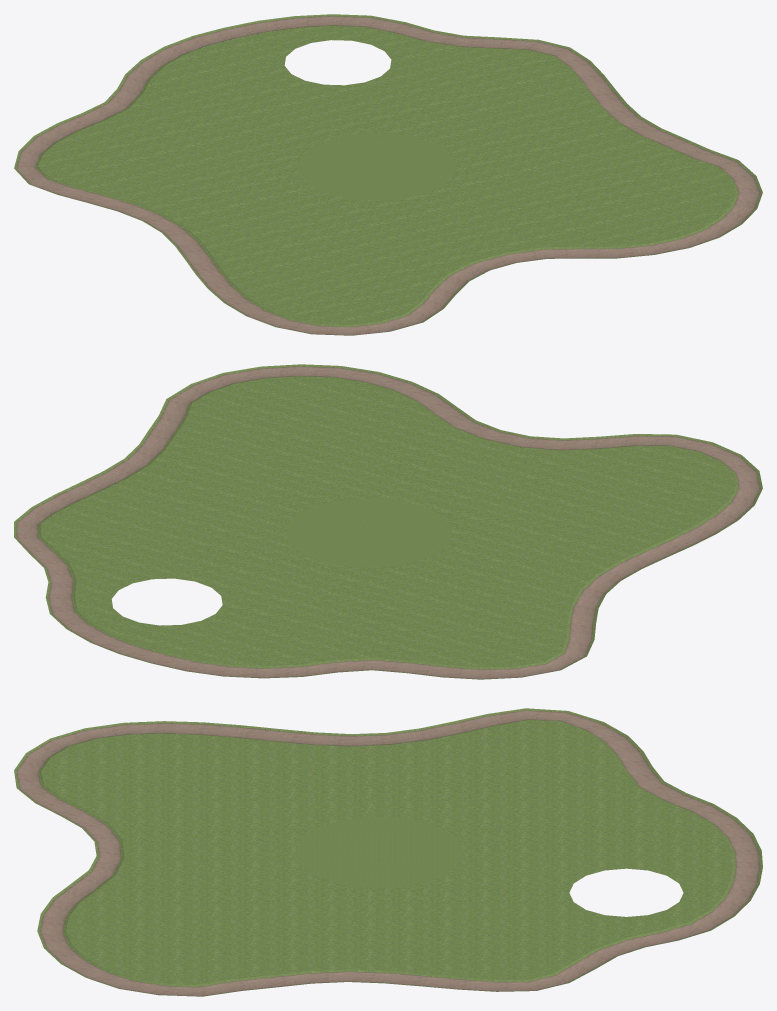
File: gGROUND.obj
3 views of the same model, one above another, from view 1: azimuth 30°, elevation 25°; view 2: azimuth 150°, elevation 25°; view 3: azimuth 270°, elevation 25° (orthographic). The views are drawn at different scales.
Visible parts, largest first — view 1: polySurface3_0, nurbsToPoly3_0, polySurface150_0; view 2: polySurface3_0, nurbsToPoly3_0, polySurface150_0; view 3: polySurface3_0, nurbsToPoly3_0, polySurface150_0.
Part boxes in pixels (<box>): polySurface3_0: <box>38,26,735,324</box>; nurbsToPoly3_0: <box>14,14,762,335</box>; polySurface150_0: <box>298,133,455,200</box>; polySurface3_0: <box>40,376,735,667</box>; nurbsToPoly3_0: <box>14,364,762,679</box>; polySurface150_0: <box>287,498,451,567</box>; polySurface3_0: <box>41,720,732,984</box>; nurbsToPoly3_0: <box>14,708,762,996</box>; polySurface150_0: <box>295,817,462,887</box>.
Size of what is drawn, in the model's own units: 1793 by 3.17 by 1968.
